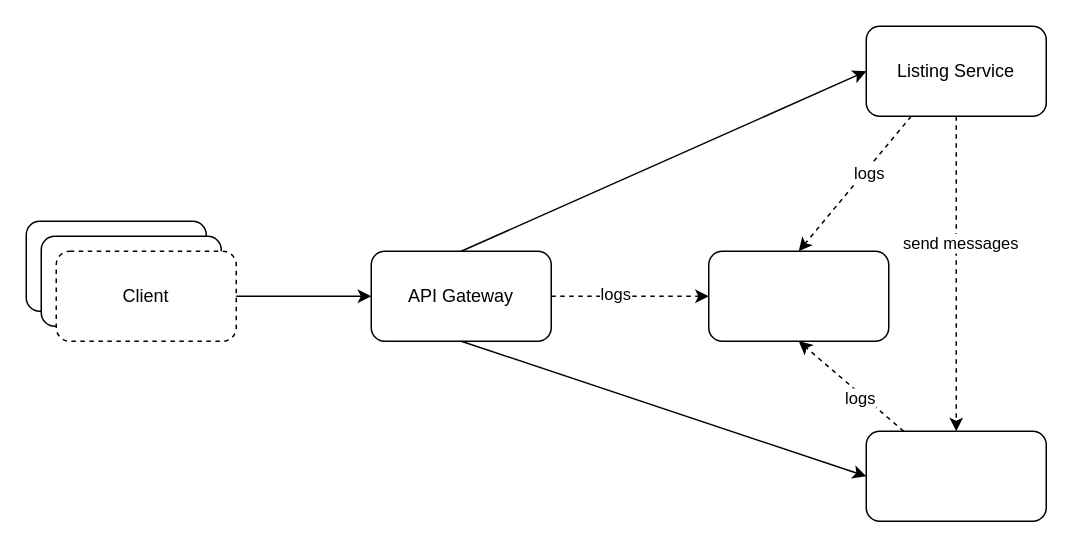
Image size: 1073x548. Some labels were removed from this diagram. Here are the shapes that lost their labels. From the top down, the centre of each, then its label:
At pixel 798 295: "Log Service".
At pixel 955 475: "User Activities Service".
